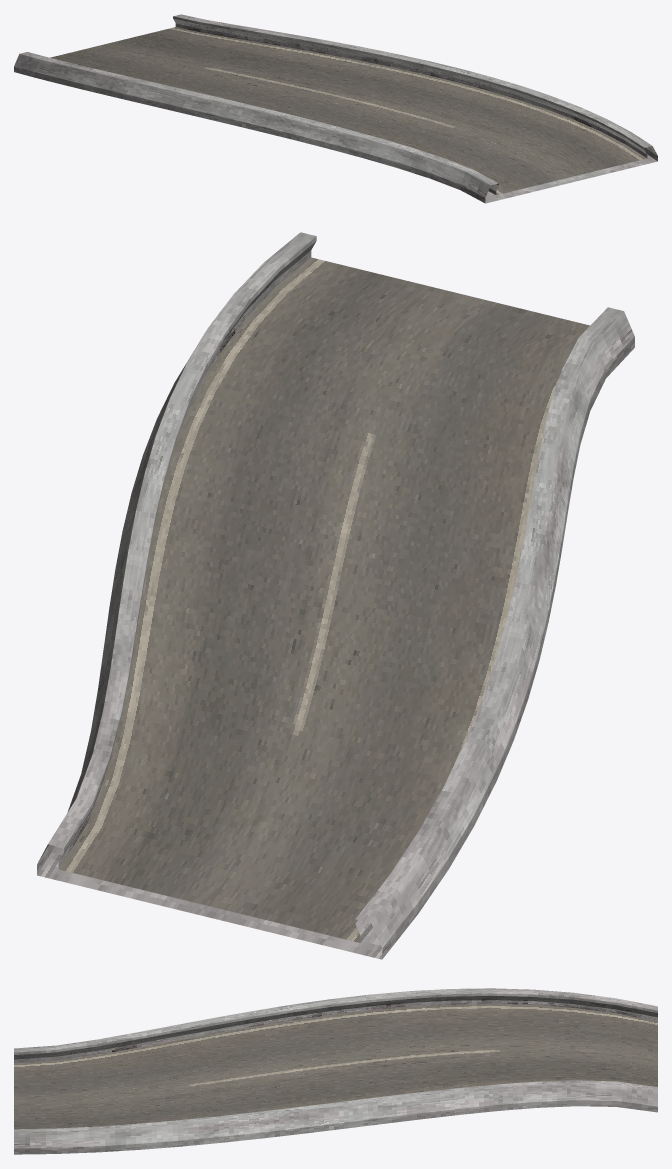
Rendered from road-Chicane-Flat-BiSlopeDown-Down1-Left1-Size3.glb.
The picture shows the model from 3 angles, top to bottom: view 1: azimuth 30°, elevation 25°; view 2: azimuth 150°, elevation 25°; view 3: azimuth 270°, elevation 25°; orthographic projection. The views are drawn at different scales.
Visible parts, largest first — view 1: road-Chicane-Flat-BiSlopeDown-Down1-Left1-Size3; view 2: road-Chicane-Flat-BiSlopeDown-Down1-Left1-Size3; view 3: road-Chicane-Flat-BiSlopeDown-Down1-Left1-Size3.
Part boxes in pixels (x1=…): road-Chicane-Flat-BiSlopeDown-Down1-Left1-Size3: x1=14, y1=14, x2=657, y2=203; road-Chicane-Flat-BiSlopeDown-Down1-Left1-Size3: x1=37, y1=232, x2=634, y2=959; road-Chicane-Flat-BiSlopeDown-Down1-Left1-Size3: x1=14, y1=988, x2=657, y2=1154.
Bounding box in the file's own units: 2 × 0.3472 × 3.
2 materials, 2 textured.
